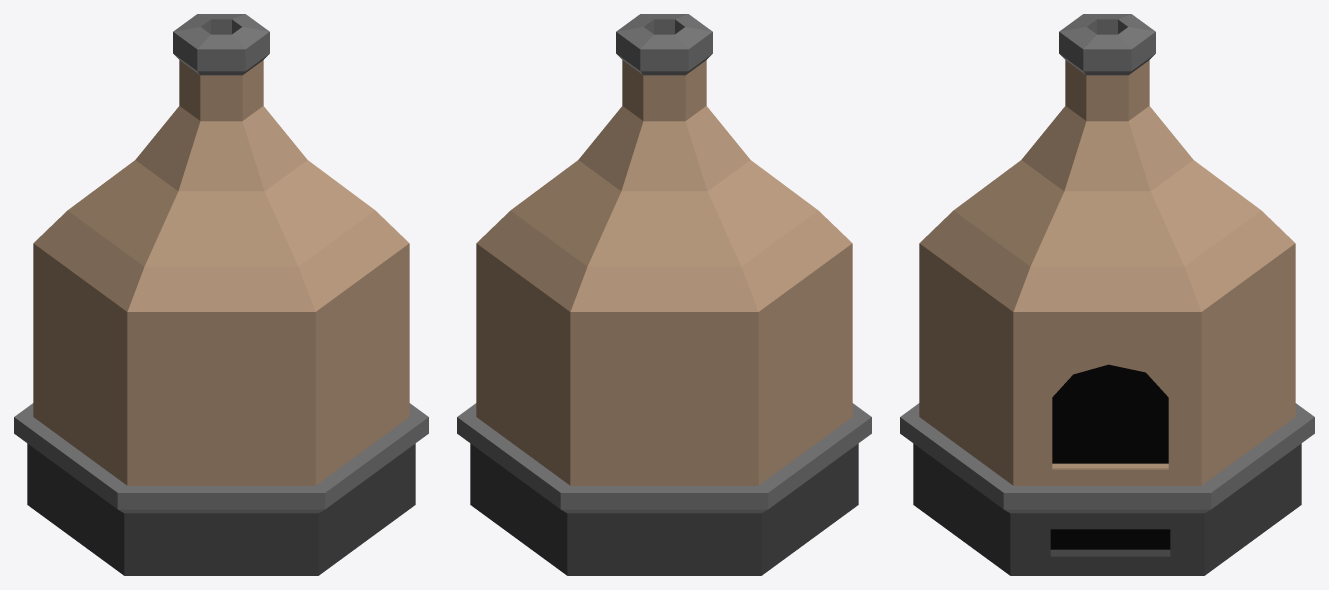
The model's file is Smelter.fbx.
3 views of the same model, side by side, from view 1: azimuth 30°, elevation 25°; view 2: azimuth 150°, elevation 25°; view 3: azimuth 270°, elevation 25° (orthographic).
Parts seen in each view (by area): view 1: Cylinder; view 2: Cylinder; view 3: Cylinder.
Boxes of the visible parts, <box> form: Cylinder: <box>14,14,428,575</box>; Cylinder: <box>457,14,871,575</box>; Cylinder: <box>900,14,1314,575</box>.
Bounding box in the file's own units: 185 × 272 × 214.
